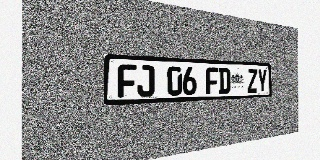0: (167, 66, 182, 96)
6: (183, 66, 197, 95)
D: (219, 68, 230, 94)
F: (118, 64, 136, 98), (206, 67, 218, 94)
J: (137, 65, 154, 97)
Y: (258, 69, 267, 92)
Z: (248, 69, 257, 93)
